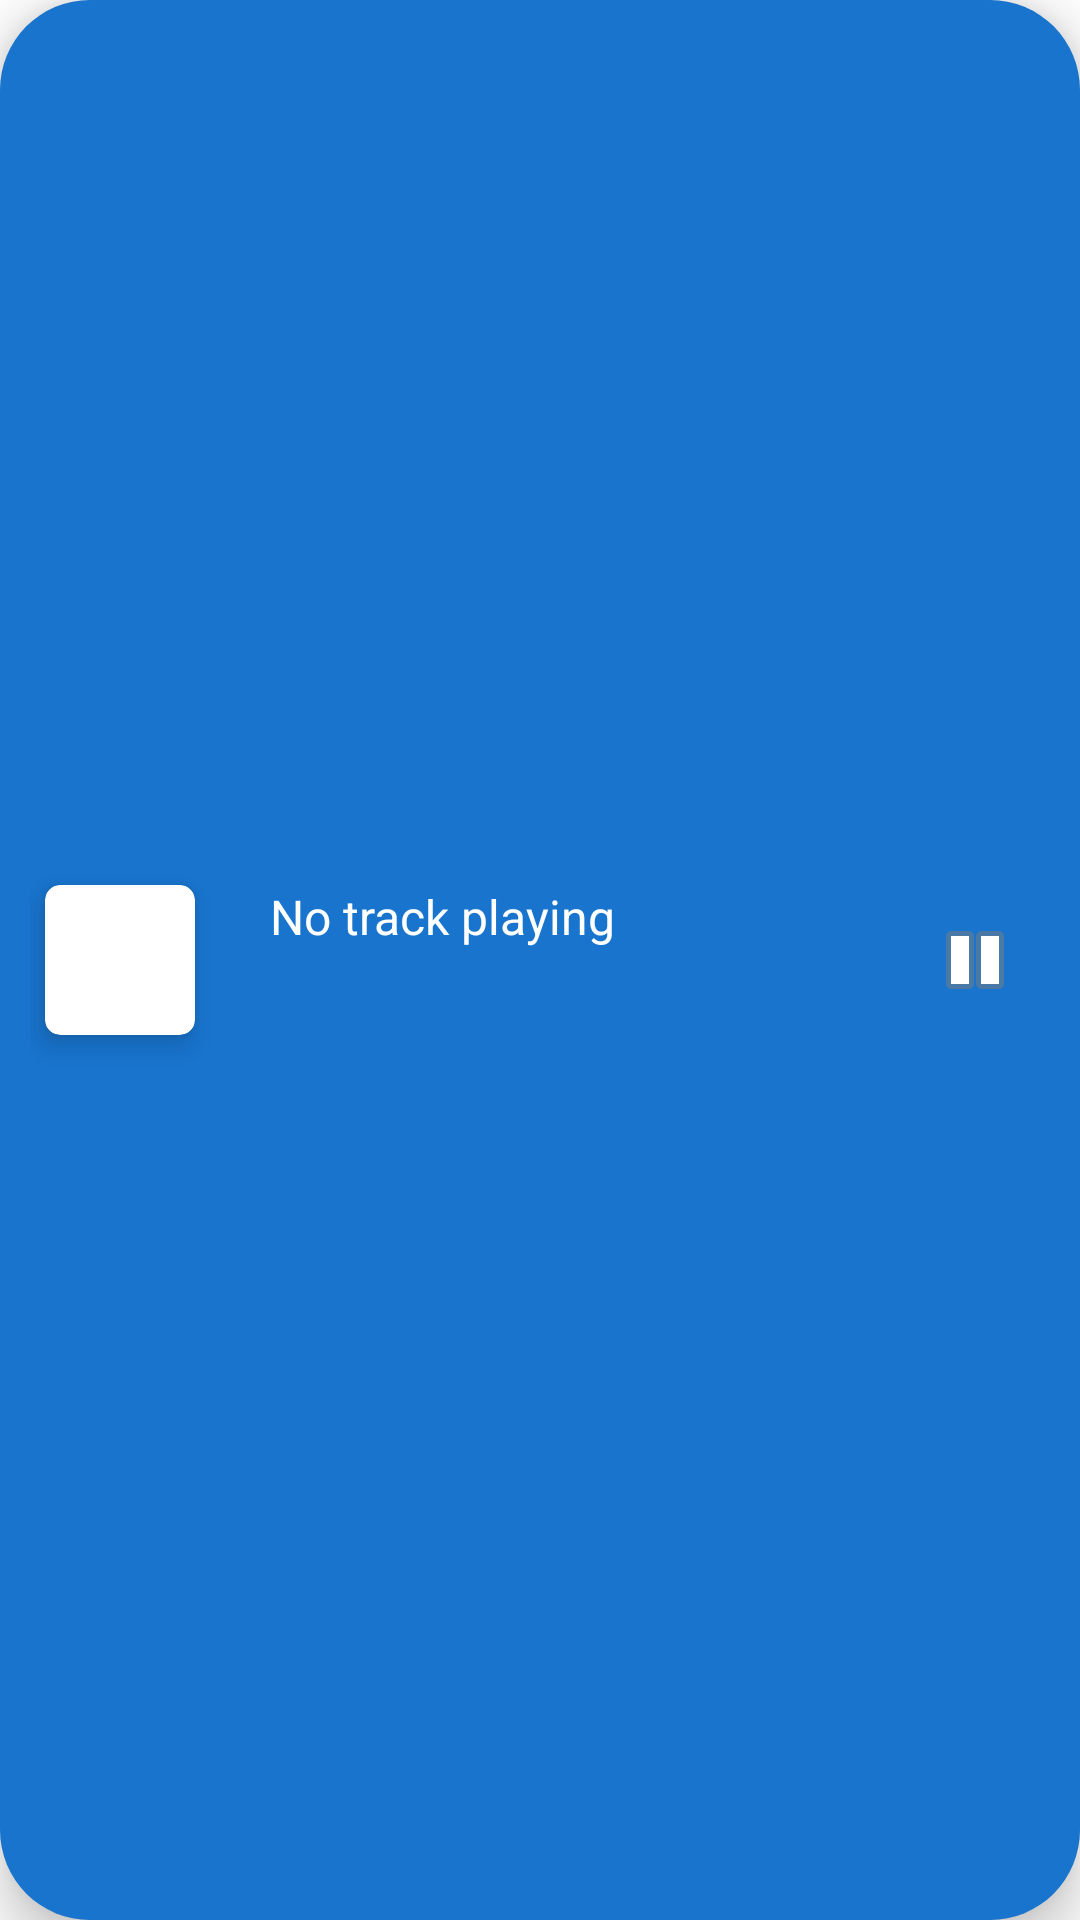

Locate icon controls on the screen. Image size 1080w x 1920h, boxes as (x1, y1, x2, y2).
Play/Pause button: (946, 931, 1004, 989)
